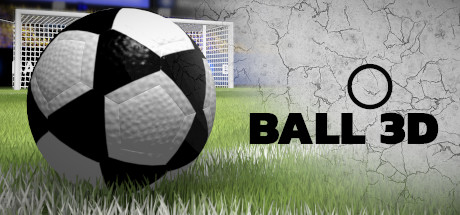sphere: (27, 7, 216, 195)
